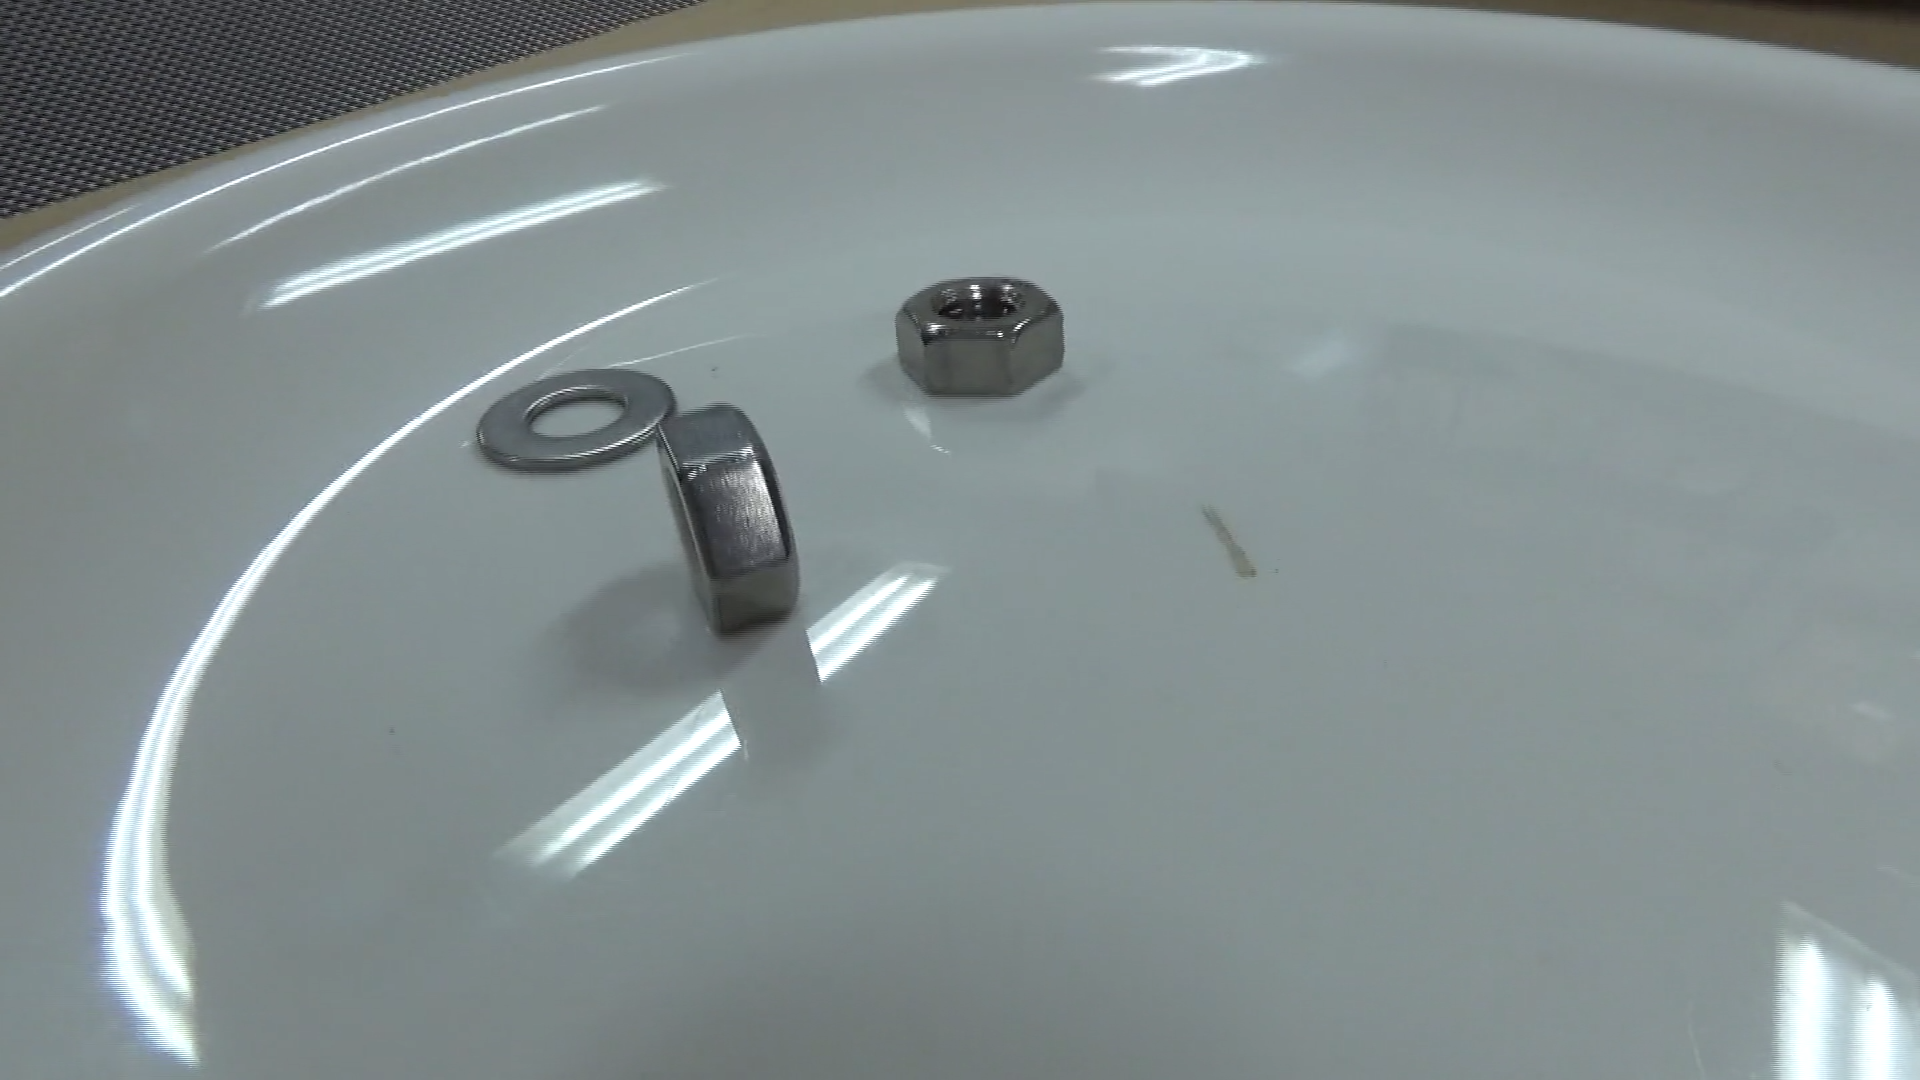nut: (651, 397, 806, 637), (889, 262, 1069, 421)
washer: (465, 352, 678, 480)
